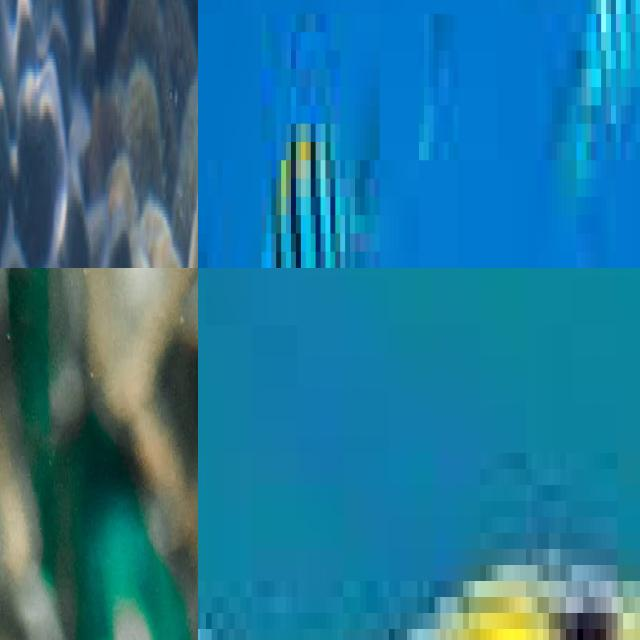fish: (198, 0, 640, 268), (198, 373, 640, 640), (0, 0, 198, 268)
